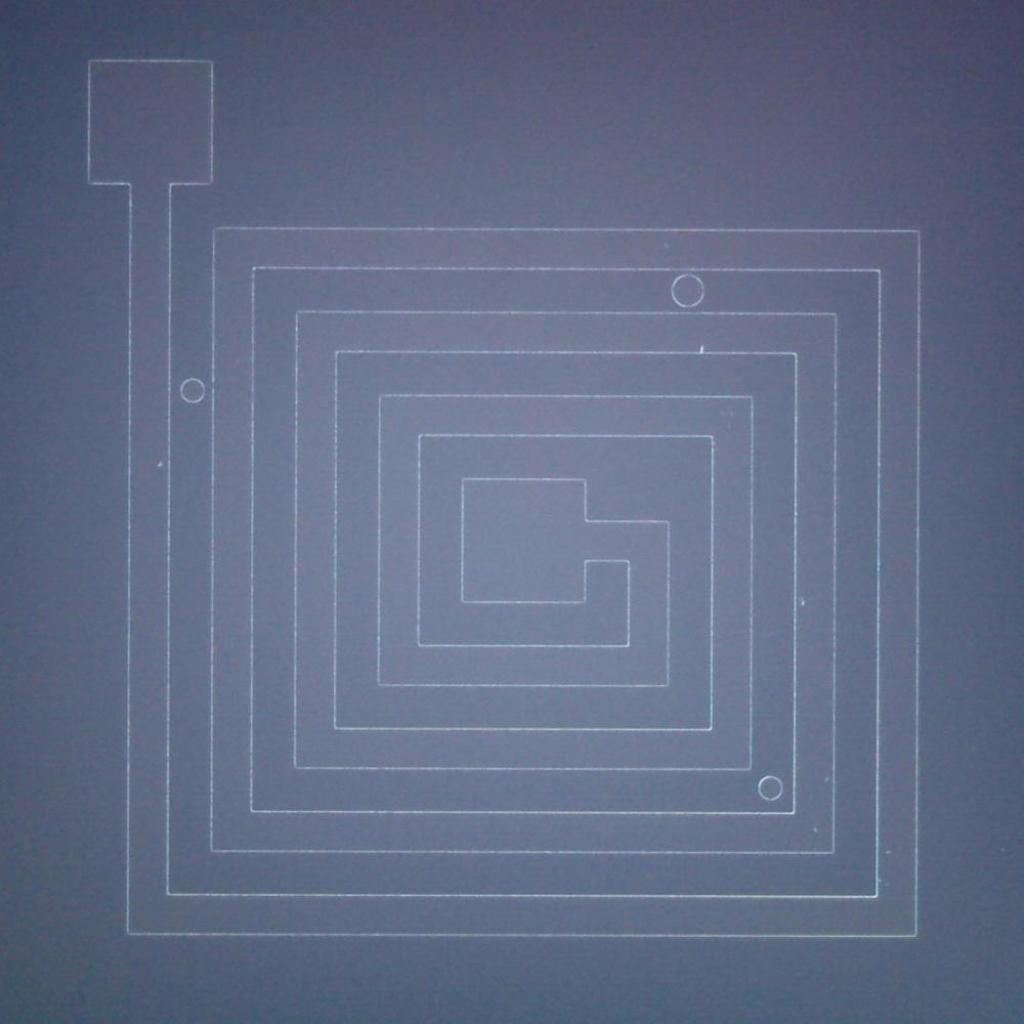dot: (698, 346, 706, 352), (800, 600, 806, 606), (885, 849, 891, 855), (158, 462, 163, 467), (824, 778, 830, 782), (813, 828, 818, 832)
